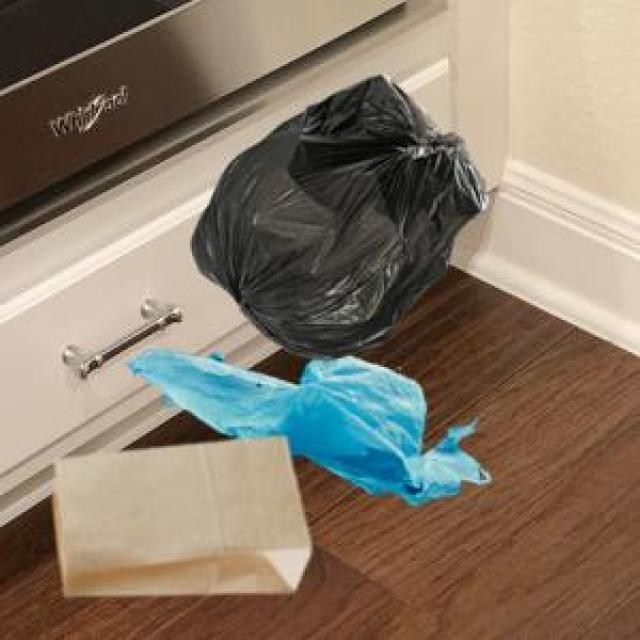miscellaneous trash: (188, 70, 484, 356)
paper: (49, 433, 307, 591)
